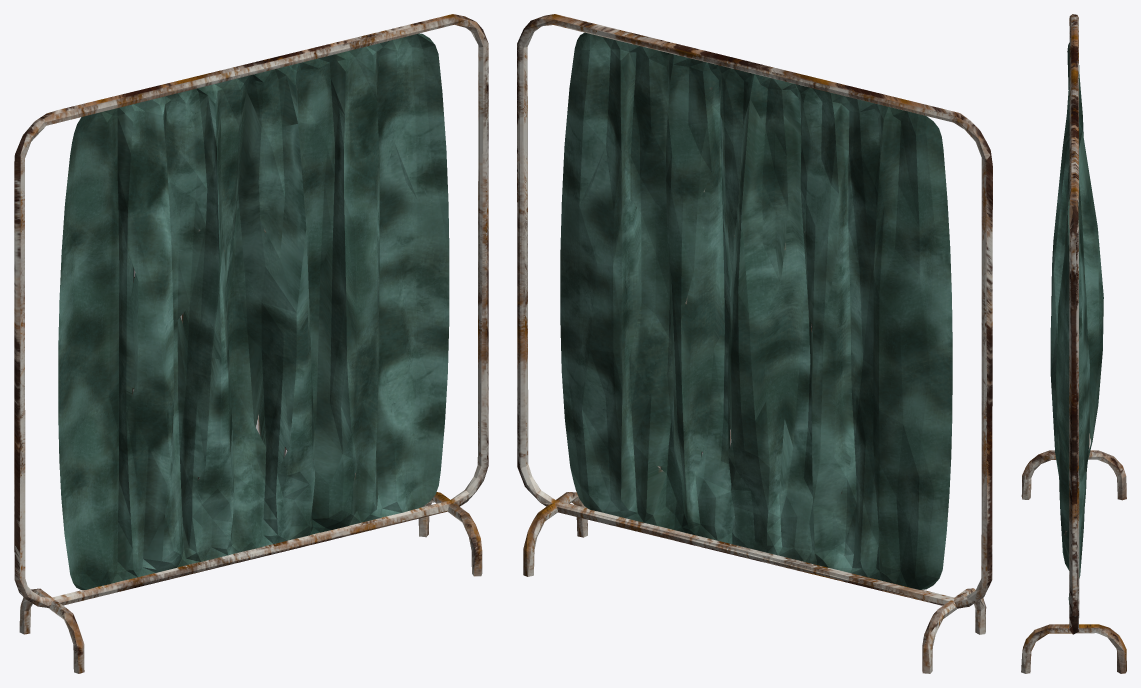
Rendered from curtain.fbx.
The picture shows the model from 3 angles, left to right: view 1: azimuth 30°, elevation 25°; view 2: azimuth 150°, elevation 25°; view 3: azimuth 270°, elevation 25°; orthographic projection. The views are drawn at different scales.
Parts seen in each view (by area): view 1: Screen; view 2: Screen; view 3: Screen.
Boxes of the visible parts, left/top/right/bottom form: Screen: left=14, top=14, right=488, bottom=673; Screen: left=517, top=14, right=992, bottom=673; Screen: left=1021, top=14, right=1126, bottom=673.
Size of the model in its own units: 204 by 222 by 44.12.
